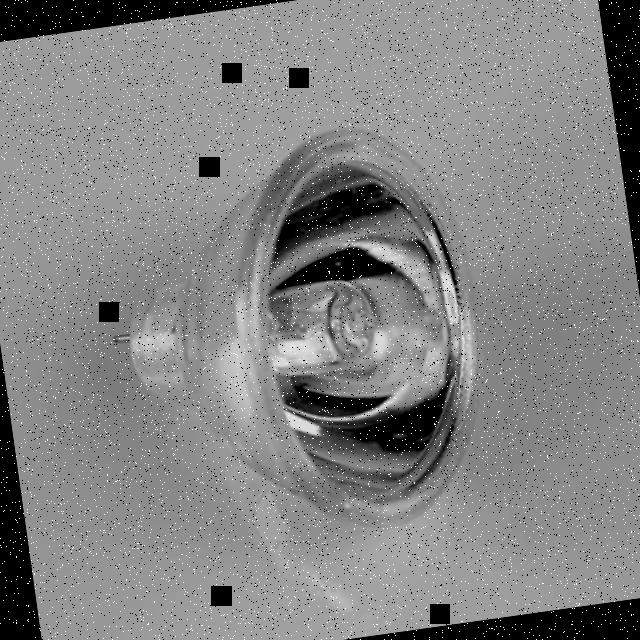light_bulb: (78, 108, 514, 558)
